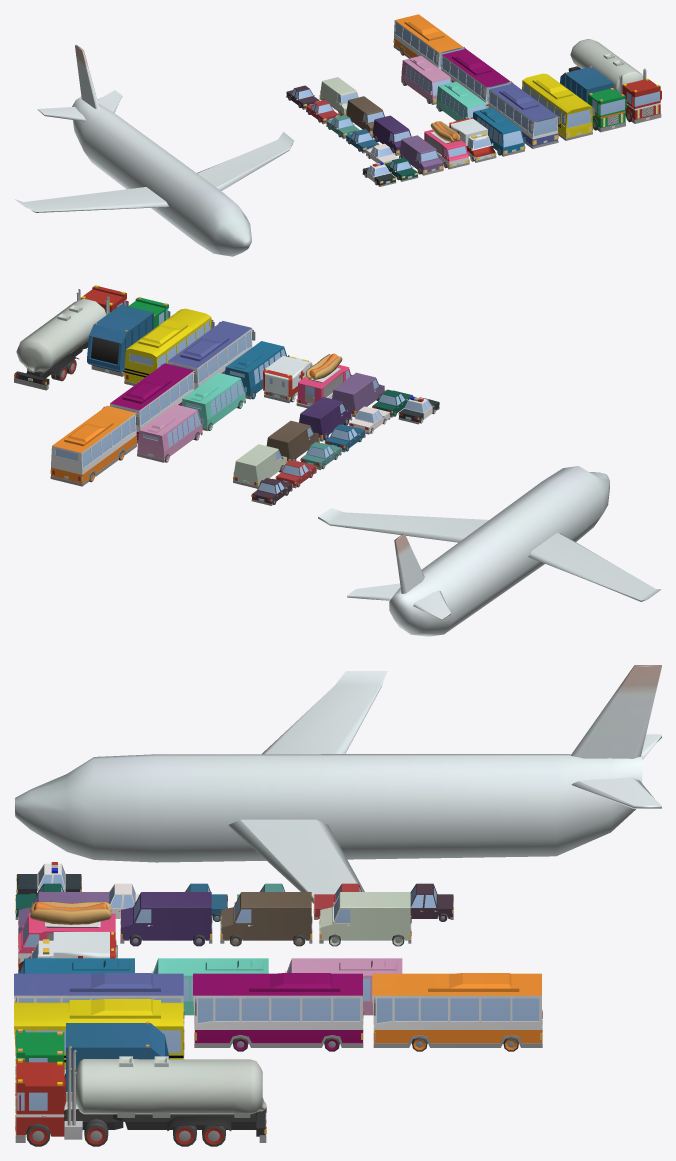
The model's file is SM_Exterior_Vehiculos.fbx.
3 renders of one model, top to bottom at view 1: azimuth 30°, elevation 25°; view 2: azimuth 150°, elevation 25°; view 3: azimuth 270°, elevation 25°, orthographic. The views are drawn at different scales.
Parts seen in each view (by area): view 1: SM_Plane, SM_Truck, SM_Bus, SM_Bus_School, SM_Truck_Trash, SM_Bus2, SM_Bus1, SM_Bus_Mini, SM_Bus_Mini2, SM_Van_Food, SM_Bus_Mini1, SM_Ambulance (+11 smaller); view 2: SM_Plane, SM_Truck, SM_Bus2, SM_Truck_Trash, SM_Bus_School, SM_Bus1, SM_Bus, SM_Bus_Mini2, SM_Bus_Mini1, SM_Van_Food, SM_Bus_Mini, SM_Ambulance (+11 smaller); view 3: SM_Plane, SM_Truck, SM_Bus2, SM_Bus1, SM_Truck_Trash, SM_Bus_School, SM_Bus, SM_Van1, SM_Van2, SM_Van3, SM_Van_Food, SM_Bus_Mini1 (+7 smaller).
Part boxes in pixels (bbox=[...]): SM_Plane: bbox=[14, 45, 294, 256]; SM_Truck: bbox=[568, 39, 661, 123]; SM_Bus: bbox=[488, 83, 560, 148]; SM_Bus_School: bbox=[522, 73, 594, 140]; SM_Truck_Trash: bbox=[560, 66, 626, 132]; SM_Bus2: bbox=[393, 14, 465, 69]; SM_Bus1: bbox=[441, 49, 512, 108]; SM_Bus_Mini: bbox=[472, 107, 525, 156]; SM_Bus_Mini2: bbox=[401, 55, 451, 104]; SM_Van_Food: bbox=[424, 121, 469, 169]; SM_Bus_Mini1: bbox=[436, 81, 486, 120]; SM_Ambulance: bbox=[449, 117, 496, 162]; SM_Plane: bbox=[318, 466, 661, 636]; SM_Truck: bbox=[14, 285, 128, 390]; SM_Bus2: bbox=[50, 405, 139, 486]; SM_Truck_Trash: bbox=[87, 297, 170, 376]; SM_Bus_School: bbox=[124, 308, 214, 385]; SM_Bus1: bbox=[109, 363, 197, 443]; SM_Bus: bbox=[167, 321, 255, 389]; SM_Bus_Mini2: bbox=[137, 404, 203, 462]; SM_Bus_Mini1: bbox=[181, 372, 246, 430]; SM_Van_Food: bbox=[296, 353, 352, 408]; SM_Bus_Mini: bbox=[225, 341, 289, 399]; SM_Ambulance: bbox=[263, 356, 312, 402]; SM_Plane: bbox=[15, 665, 661, 903]; SM_Truck: bbox=[15, 1045, 266, 1146]; SM_Bus2: bbox=[372, 973, 542, 1051]; SM_Bus1: bbox=[193, 973, 363, 1051]; SM_Truck_Trash: bbox=[15, 1021, 169, 1101]; SM_Bus_School: bbox=[14, 999, 184, 1070]; SM_Bus: bbox=[14, 973, 184, 1040]; SM_Van1: bbox=[120, 892, 212, 946]; SM_Van2: bbox=[220, 892, 312, 946]; SM_Van3: bbox=[319, 892, 411, 946]; SM_Van_Food: bbox=[18, 901, 117, 967]; SM_Bus_Mini1: bbox=[151, 958, 268, 1015].
Size of the model in its own units: 11015 by 1954 by 5920.
